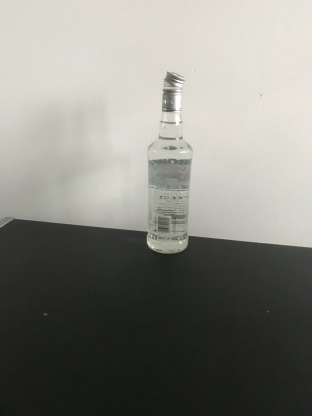nakretka: (160, 69, 186, 112)
